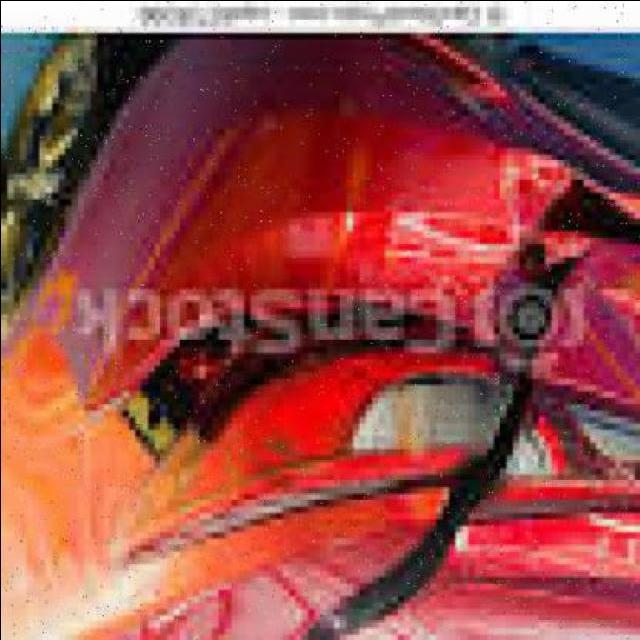rear-bumper-dent: (6, 51, 640, 435)
